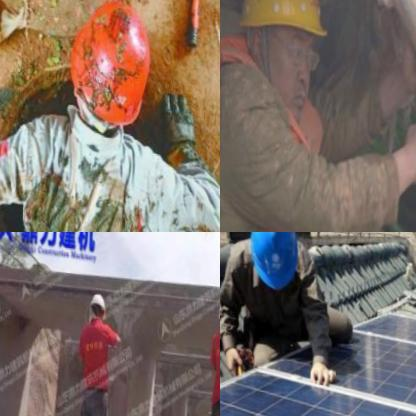helmet: (226, 0, 339, 121), (67, 0, 162, 135), (247, 232, 301, 296), (86, 287, 107, 322), (215, 289, 220, 338)
